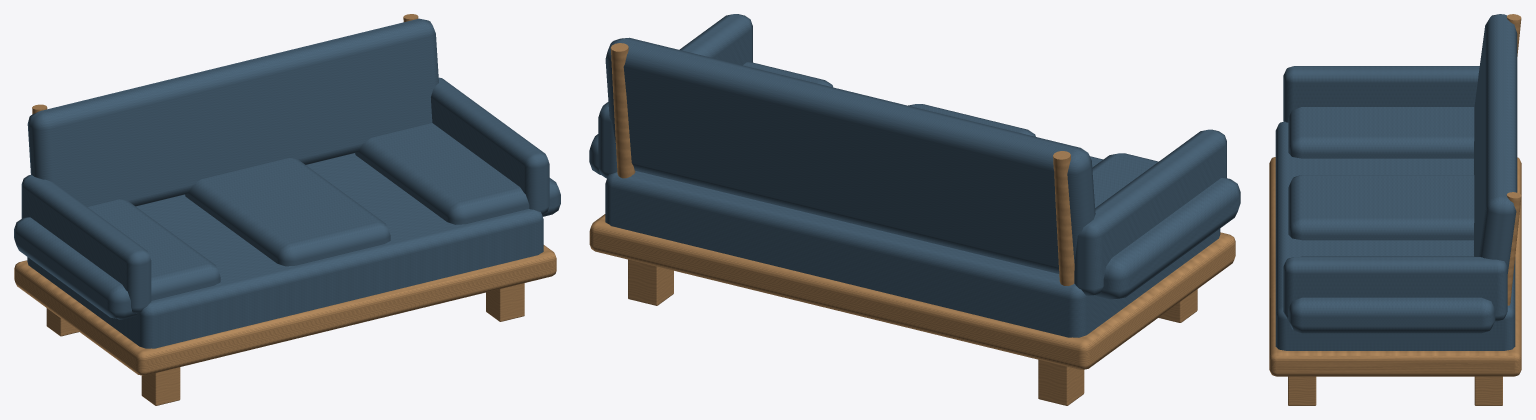
The model's file is sofa_campus-fae40b4af179.glb.
The picture shows the model from 3 angles, left to right: view 1: azimuth 30°, elevation 25°; view 2: azimuth 150°, elevation 25°; view 3: azimuth 270°, elevation 25°; orthographic projection. The views are drawn at different scales.
Parts seen in each view (by area): view 1: surface_denim, surface_oak; view 2: surface_denim, surface_oak; view 3: surface_denim, surface_oak.
Boxes of the visible parts, x1=… form: surface_denim: x1=14, y1=18, x2=560, y2=348; surface_oak: x1=14, y1=14, x2=556, y2=405; surface_denim: x1=589, y1=14, x2=1240, y2=337; surface_oak: x1=589, y1=43, x2=1235, y2=405; surface_denim: x1=1275, y1=14, x2=1517, y2=350; surface_oak: x1=1269, y1=14, x2=1521, y2=405.
Bounding box in the file's own units: 1.67 × 0.7622 × 0.82.
Materials: 2 (2 with a texture image).
